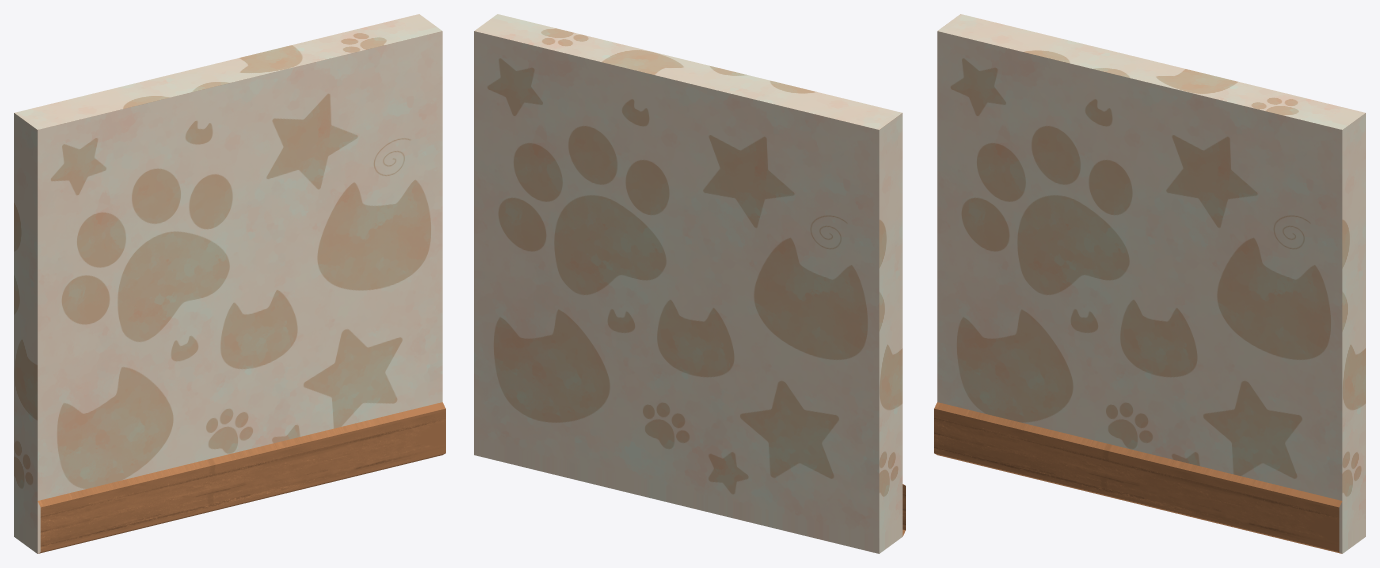
File: Wall_001_SM.fbx
3 renders of one model, left to right at view 1: azimuth 30°, elevation 25°; view 2: azimuth 150°, elevation 25°; view 3: azimuth 330°, elevation 25°, orthographic.
Visible parts, largest first — view 1: Wall_001_SM; view 2: Wall_001_SM; view 3: Wall_001_SM.
Part boxes in pixels (<box>): Wall_001_SM: <box>14,14,445,553</box>; Wall_001_SM: <box>474,14,905,553</box>; Wall_001_SM: <box>934,14,1365,553</box>.
Size of the model in its own units: 250 by 250 by 28.38.
Materials: 1 (1 with a texture image).
